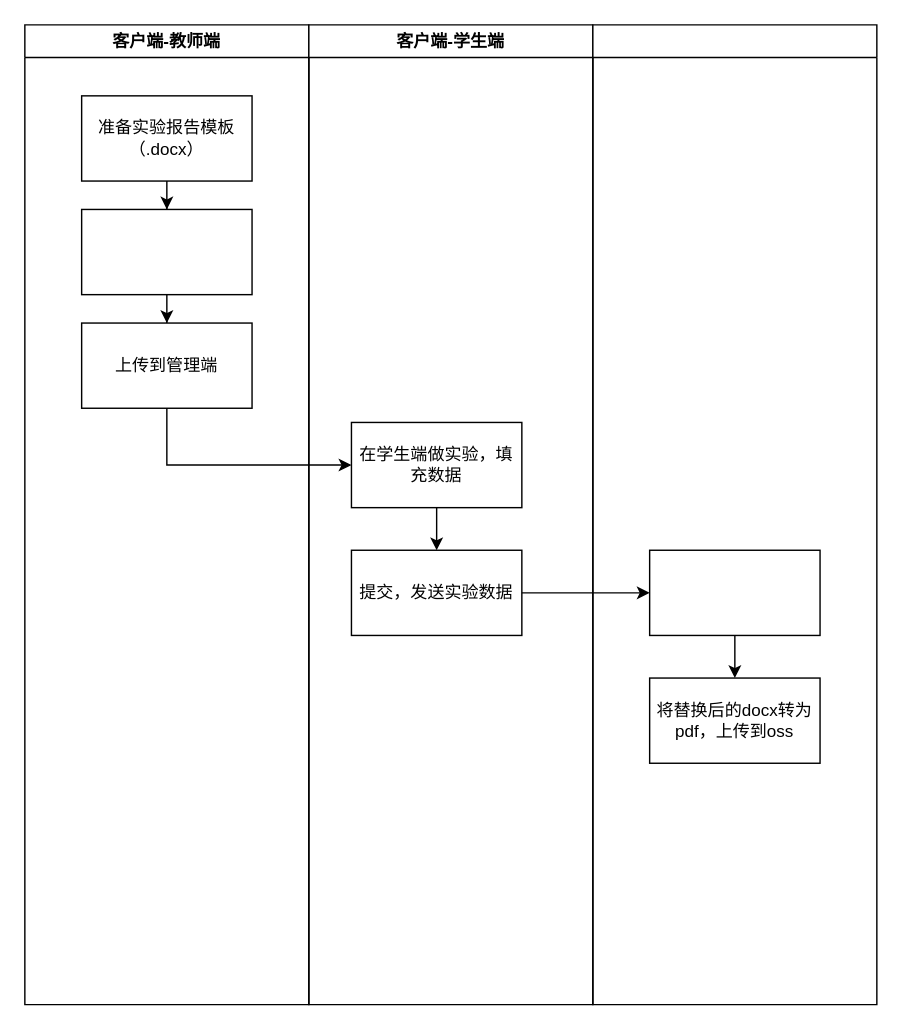
This 902x1030 diagram has some shape labels left out. The shapes that lost their labels are listed below. From the top down, each one's box as (x1, y1, x2, y2) in pixels, then its label:
(80, 208, 252, 295): 填充模板字符
(591, 23, 877, 1005): 后端
(648, 549, 820, 635): 接受实验数据，根据模板进行替换
